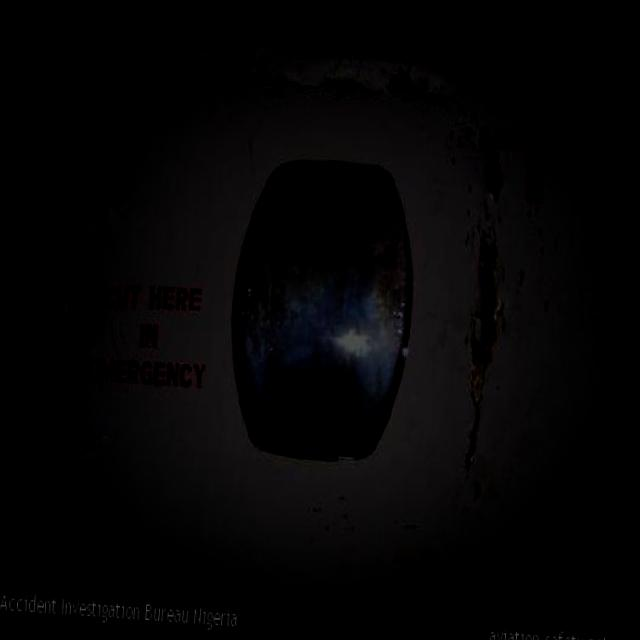crack: (43, 108, 148, 458), (146, 54, 474, 123), (457, 223, 508, 487)
